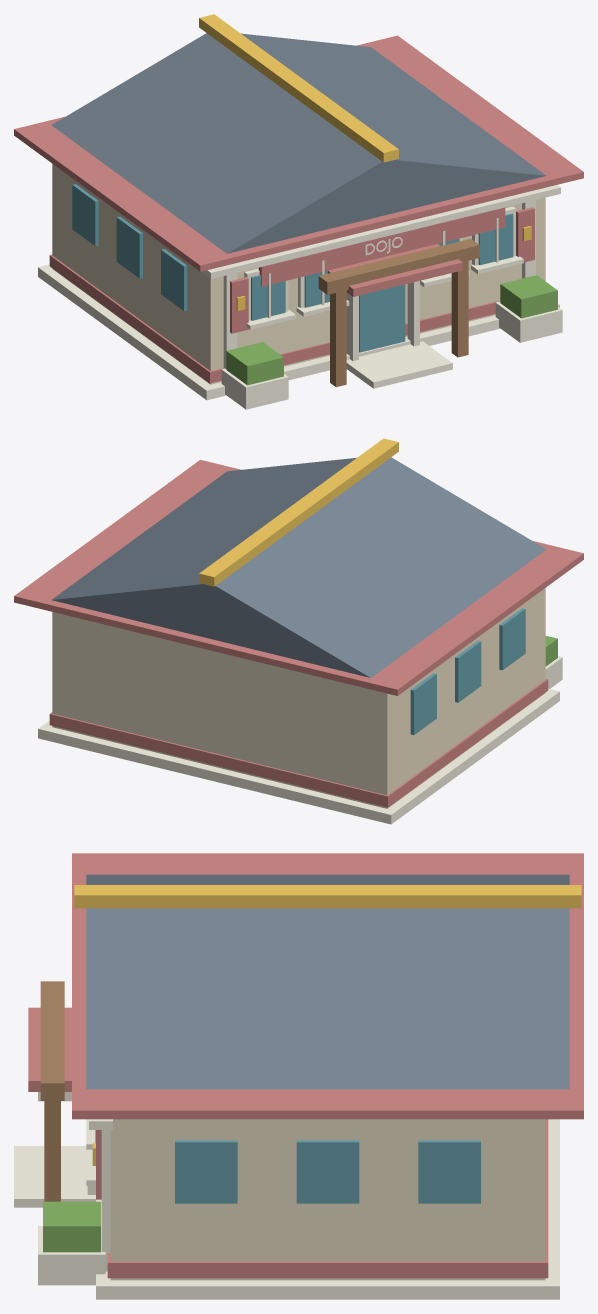
Rendered from dojo.glb.
The picture shows the model from 3 angles, top to bottom: view 1: azimuth 30°, elevation 25°; view 2: azimuth 150°, elevation 25°; view 3: azimuth 270°, elevation 25°; orthographic projection. The views are drawn at different scales.
Parts seen in each view (by area): view 1: Foundation; view 2: Foundation; view 3: Foundation.
Part boxes in pixels (x1,y1,x2,y2): Foundation: (14,14,583,409); Foundation: (14,438,583,824); Foundation: (14,853,583,1299).
Size of the model in its own units: 12.6 by 6.65 by 11.8.
